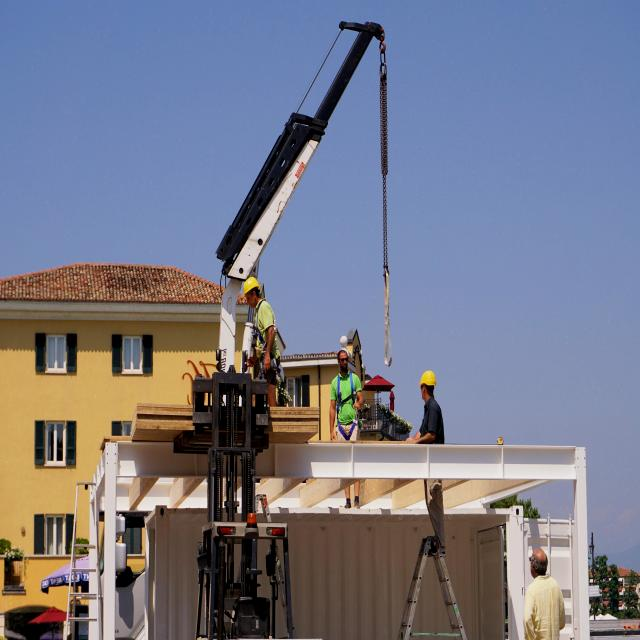face_nomask: (338, 354, 350, 379)
head_helmet: (242, 275, 258, 296), (421, 369, 439, 385)
head_nohelmet: (529, 546, 547, 563), (336, 344, 348, 356)
person: (327, 349, 359, 510), (242, 275, 272, 406), (421, 366, 442, 553), (522, 548, 560, 640)
